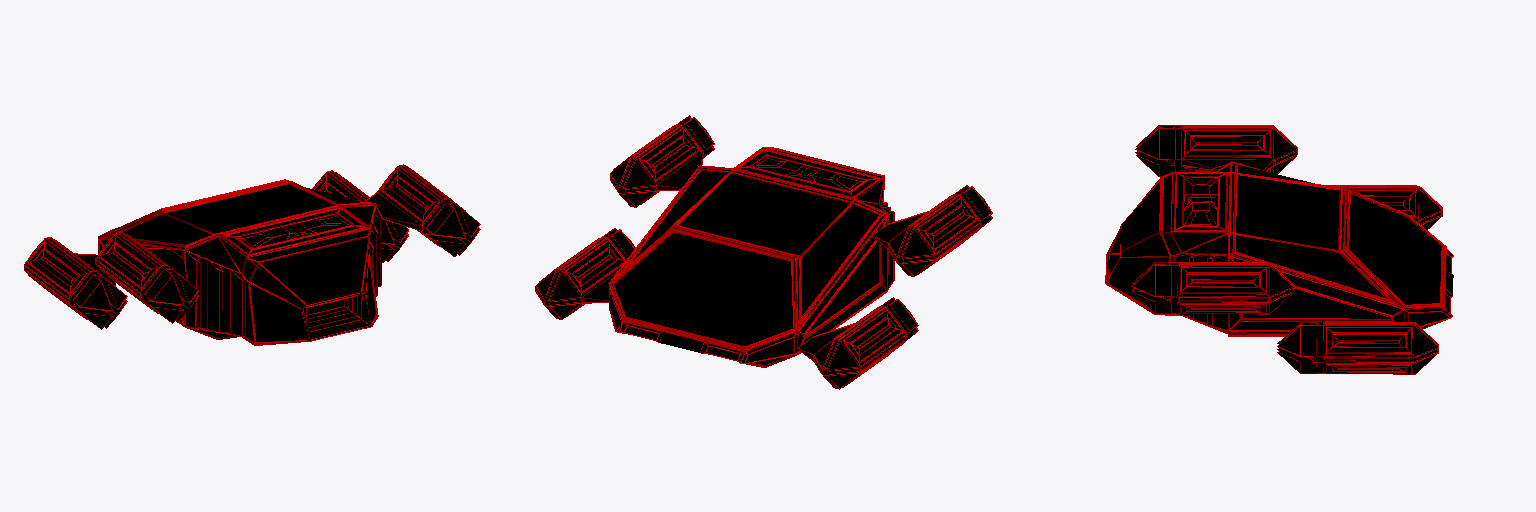
Rendered from tronTwo.obj.
The picture shows the model from 3 angles: view 1: azimuth 30°, elevation 25°; view 2: azimuth 150°, elevation 25°; view 3: azimuth 270°, elevation 25°; orthographic projection.
Visible parts, largest first — view 1: r_Cube.018, Cube.007_Cube.014, Cube.003_Cube.015, Cube.001_Cube.013, Cube.002_Cube.003; view 2: r_Cube.018, Cube.005_Cube.019, Cube.001_Cube.013, Cube.007_Cube.014, Cube.003_Cube.015, Cube.002_Cube.003; view 3: r_Cube.018, Cube.002_Cube.003, Cube.003_Cube.015, Cube.005_Cube.019, Cube.007_Cube.014, Cube.001_Cube.013.
Part boxes in pixels (bbox=[...]): r_Cube.018: bbox=[98, 179, 382, 345]; Cube.007_Cube.014: bbox=[95, 231, 198, 323]; Cube.003_Cube.015: bbox=[365, 164, 480, 256]; Cube.001_Cube.013: bbox=[24, 237, 127, 329]; Cube.002_Cube.003: bbox=[312, 170, 408, 262]; r_Cube.018: bbox=[608, 147, 894, 367]; Cube.005_Cube.019: bbox=[612, 233, 794, 345]; Cube.001_Cube.013: bbox=[798, 297, 918, 389]; Cube.007_Cube.014: bbox=[872, 185, 992, 276]; Cube.003_Cube.015: bbox=[610, 115, 714, 207]; Cube.002_Cube.003: bbox=[535, 228, 635, 319]; r_Cube.018: bbox=[1105, 161, 1453, 336]; Cube.002_Cube.003: bbox=[1277, 322, 1438, 374]; Cube.003_Cube.015: bbox=[1131, 262, 1293, 314]; Cube.005_Cube.019: bbox=[1346, 191, 1443, 304]; Cube.007_Cube.014: bbox=[1135, 125, 1297, 176]; Cube.001_Cube.013: bbox=[1329, 185, 1442, 229].
Size of the model in its own units: 2.2 by 0.7783 by 2.02.